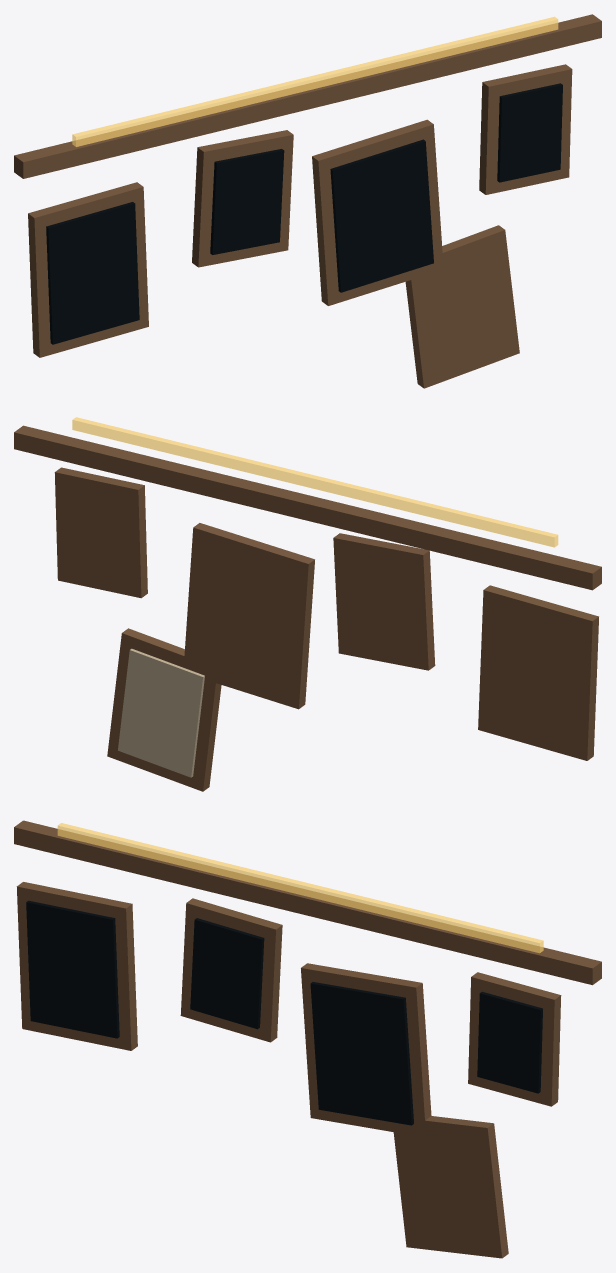
Rendered from hp_room_rm_home_photo_cluster.glb.
3 renders of one model, top to bottom at view 1: azimuth 30°, elevation 25°; view 2: azimuth 150°, elevation 25°; view 3: azimuth 330°, elevation 25°, orthographic.
Parts seen in each view (by area): view 1: cluster_rail, frame_4, photo_2, photo_0, frame_2, warm_wash, frame_0, photo_1, photo_3, frame_1, frame_3; view 2: frame_2, frame_0, cluster_rail, frame_1, frame_3, photo_4, warm_wash, frame_4; view 3: cluster_rail, frame_4, photo_2, photo_0, warm_wash, frame_2, frame_0, photo_1, photo_3, frame_1, frame_3.
Boxes of the visible parts, x1=… form: cluster_rail: x1=14, y1=14, x2=601, y2=178; frame_4: x1=405, y1=225, x2=519, y2=388; photo_2: x1=330, y1=139, x2=433, y2=292; photo_0: x1=46, y1=202, x2=139, y2=344; frame_2: x1=312, y1=119, x2=443, y2=305; warm_wash: x1=72, y1=16, x2=558, y2=146; frame_0: x1=28, y1=182, x2=148, y2=357; photo_1: x1=210, y1=149, x2=284, y2=254; photo_3: x1=497, y1=83, x2=562, y2=182; frame_1: x1=192, y1=130, x2=293, y2=267; frame_3: x1=479, y1=64, x2=572, y2=194; frame_2: x1=183, y1=523, x2=314, y2=709; frame_0: x1=478, y1=585, x2=598, y2=760; cluster_rail: x1=14, y1=425, x2=601, y2=590; frame_1: x1=333, y1=533, x2=435, y2=670; frame_3: x1=54, y1=467, x2=147, y2=598; photo_4: x1=118, y1=648, x2=204, y2=777; warm_wash: x1=72, y1=417, x2=558, y2=547; frame_4: x1=107, y1=628, x2=221, y2=791; cluster_rail: x1=14, y1=820, x2=601, y2=985; frame_4: x1=392, y1=1116, x2=508, y2=1258; photo_2: x1=310, y1=982, x2=413, y2=1125; photo_0: x1=26, y1=900, x2=119, y2=1038; warm_wash: x1=57, y1=823, x2=543, y2=953; frame_2: x1=301, y1=963, x2=431, y2=1137; frame_0: x1=16, y1=882, x2=137, y2=1050; photo_1: x1=190, y1=918, x2=264, y2=1029; photo_3: x1=477, y1=991, x2=542, y2=1093; frame_1: x1=180, y1=898, x2=282, y2=1042; frame_3: x1=468, y1=972, x2=561, y2=1106.
Bounding box in the file's own units: 1.8 × 1 × 0.085.
